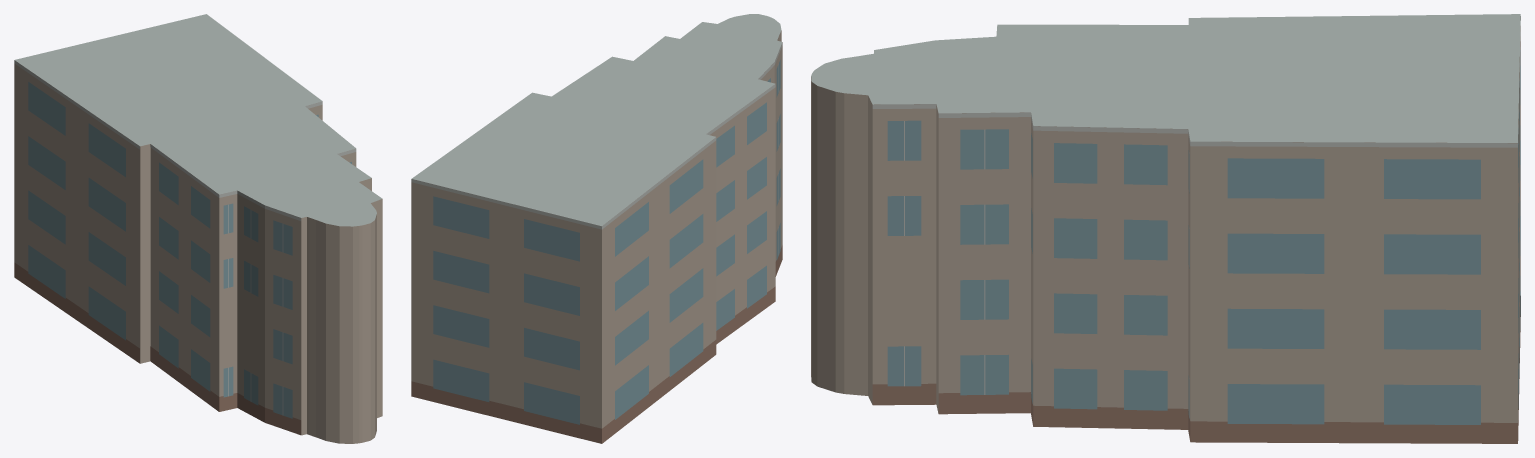
File: survey-upis-32598016.glb
The picture shows the model from 3 angles, left to right: view 1: azimuth 30°, elevation 25°; view 2: azimuth 150°, elevation 25°; view 3: azimuth 270°, elevation 25°; orthographic projection. The views are drawn at different scales.
Parts seen in each view (by area): view 1: survey-upis-32598016.tmp; view 2: survey-upis-32598016.tmp; view 3: survey-upis-32598016.tmp.
Part boxes in pixels (x1,y1,x2,y2): survey-upis-32598016.tmp: [14, 14, 382, 443]; survey-upis-32598016.tmp: [411, 14, 782, 443]; survey-upis-32598016.tmp: [811, 14, 1520, 443].
Size of the model in its own units: 14.46 by 15.7 by 33.58.
